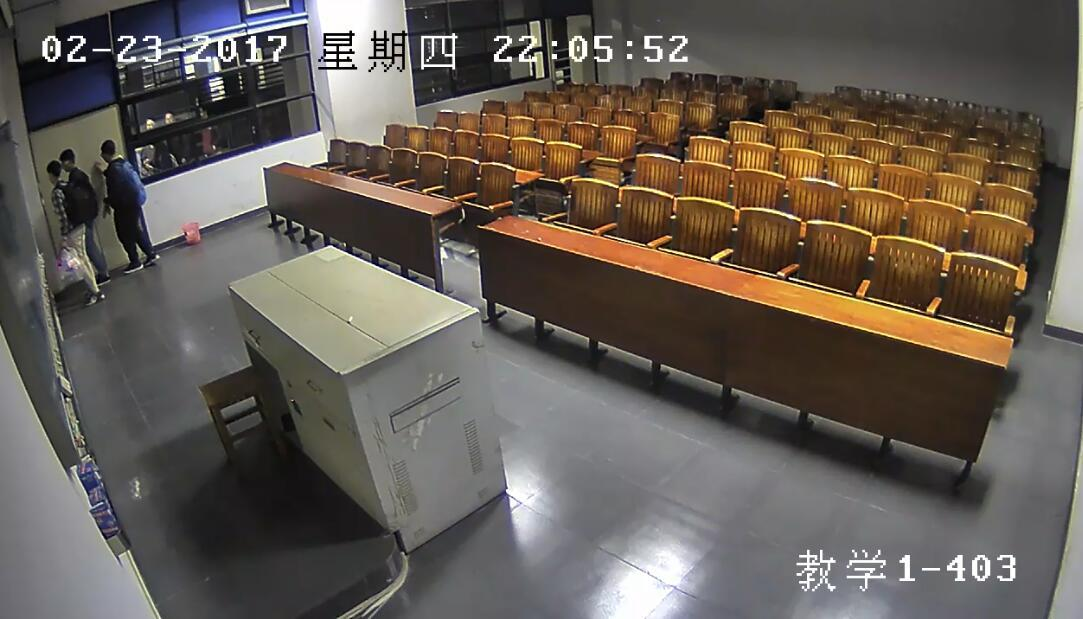head: (56, 147, 77, 168), (45, 159, 64, 182), (194, 105, 214, 125), (102, 139, 117, 162), (143, 119, 160, 134), (161, 111, 175, 125)
